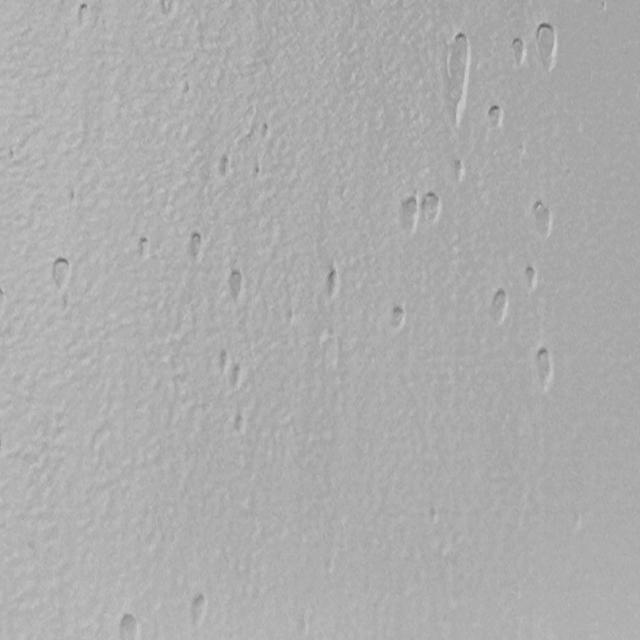pin holes: (442, 34, 472, 110), (532, 22, 561, 74), (531, 342, 559, 392), (529, 199, 554, 239), (186, 592, 210, 630), (49, 255, 72, 291), (486, 286, 508, 322), (116, 611, 142, 640), (398, 194, 418, 230), (420, 189, 443, 220), (322, 267, 343, 298), (185, 231, 206, 262), (226, 268, 246, 300), (228, 362, 248, 392), (508, 36, 527, 67), (390, 304, 411, 331), (522, 264, 542, 291), (484, 104, 503, 132), (73, 1, 92, 26), (449, 156, 467, 182), (158, 0, 180, 19), (232, 414, 249, 438), (216, 153, 231, 179), (136, 236, 152, 260), (218, 349, 232, 373), (1, 284, 10, 310), (260, 122, 272, 139), (252, 164, 263, 181), (183, 80, 193, 95), (62, 293, 69, 312), (68, 188, 76, 204), (8, 146, 14, 162)
